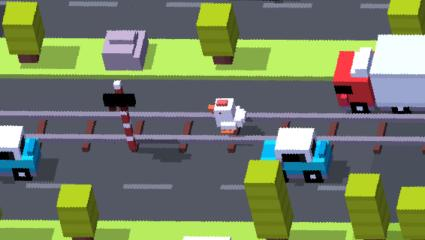hen: (209, 98, 247, 135)
obstacle: (332, 33, 425, 113), (261, 128, 333, 184), (245, 160, 295, 240), (345, 173, 390, 240), (197, 2, 240, 65), (3, 0, 44, 64), (57, 184, 100, 240), (0, 125, 41, 182), (102, 30, 150, 71), (397, 187, 425, 240), (389, 0, 424, 34), (180, 236, 233, 240)
